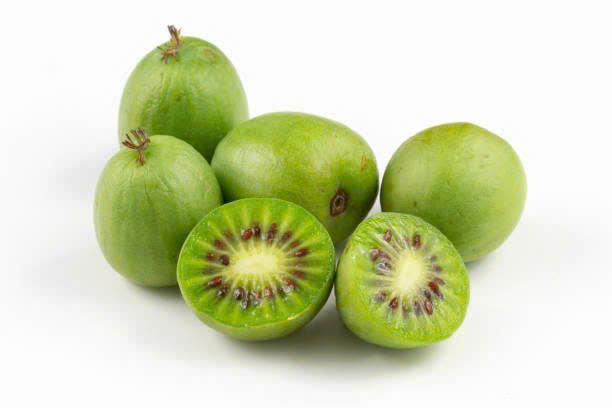grape: (181, 195, 333, 354), (381, 119, 531, 274), (90, 130, 216, 280), (339, 211, 468, 352), (220, 110, 369, 218), (126, 30, 251, 137)
